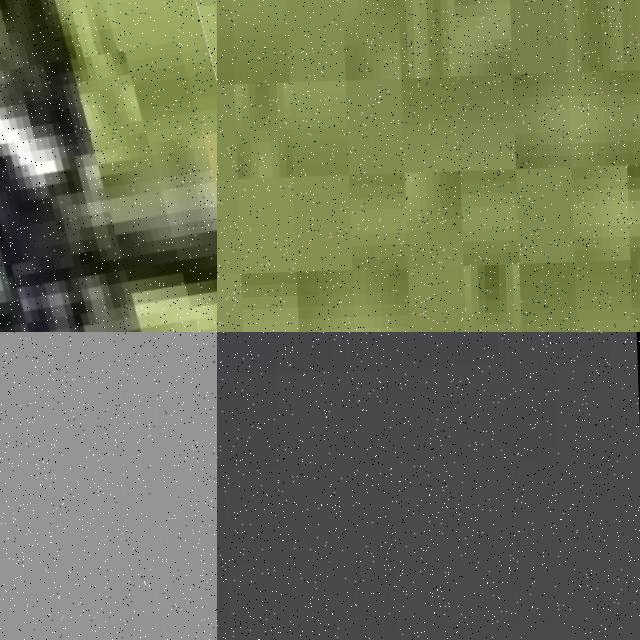drone: (0, 0, 217, 332)
